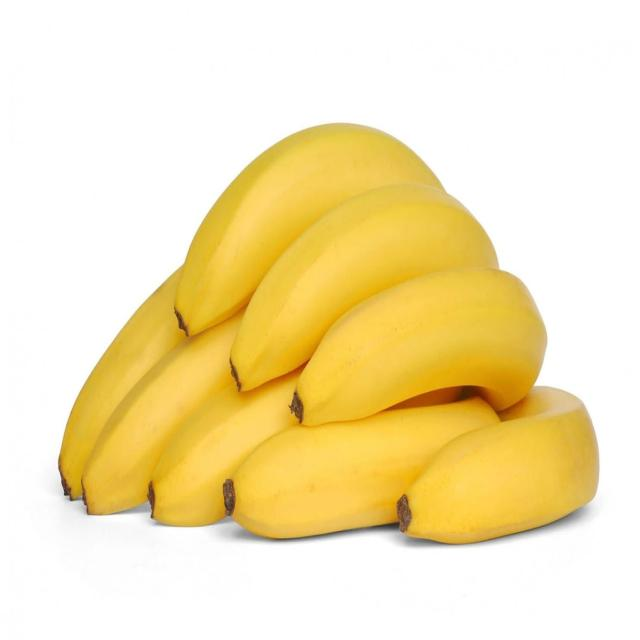Quả chuối: (58, 121, 600, 544)
